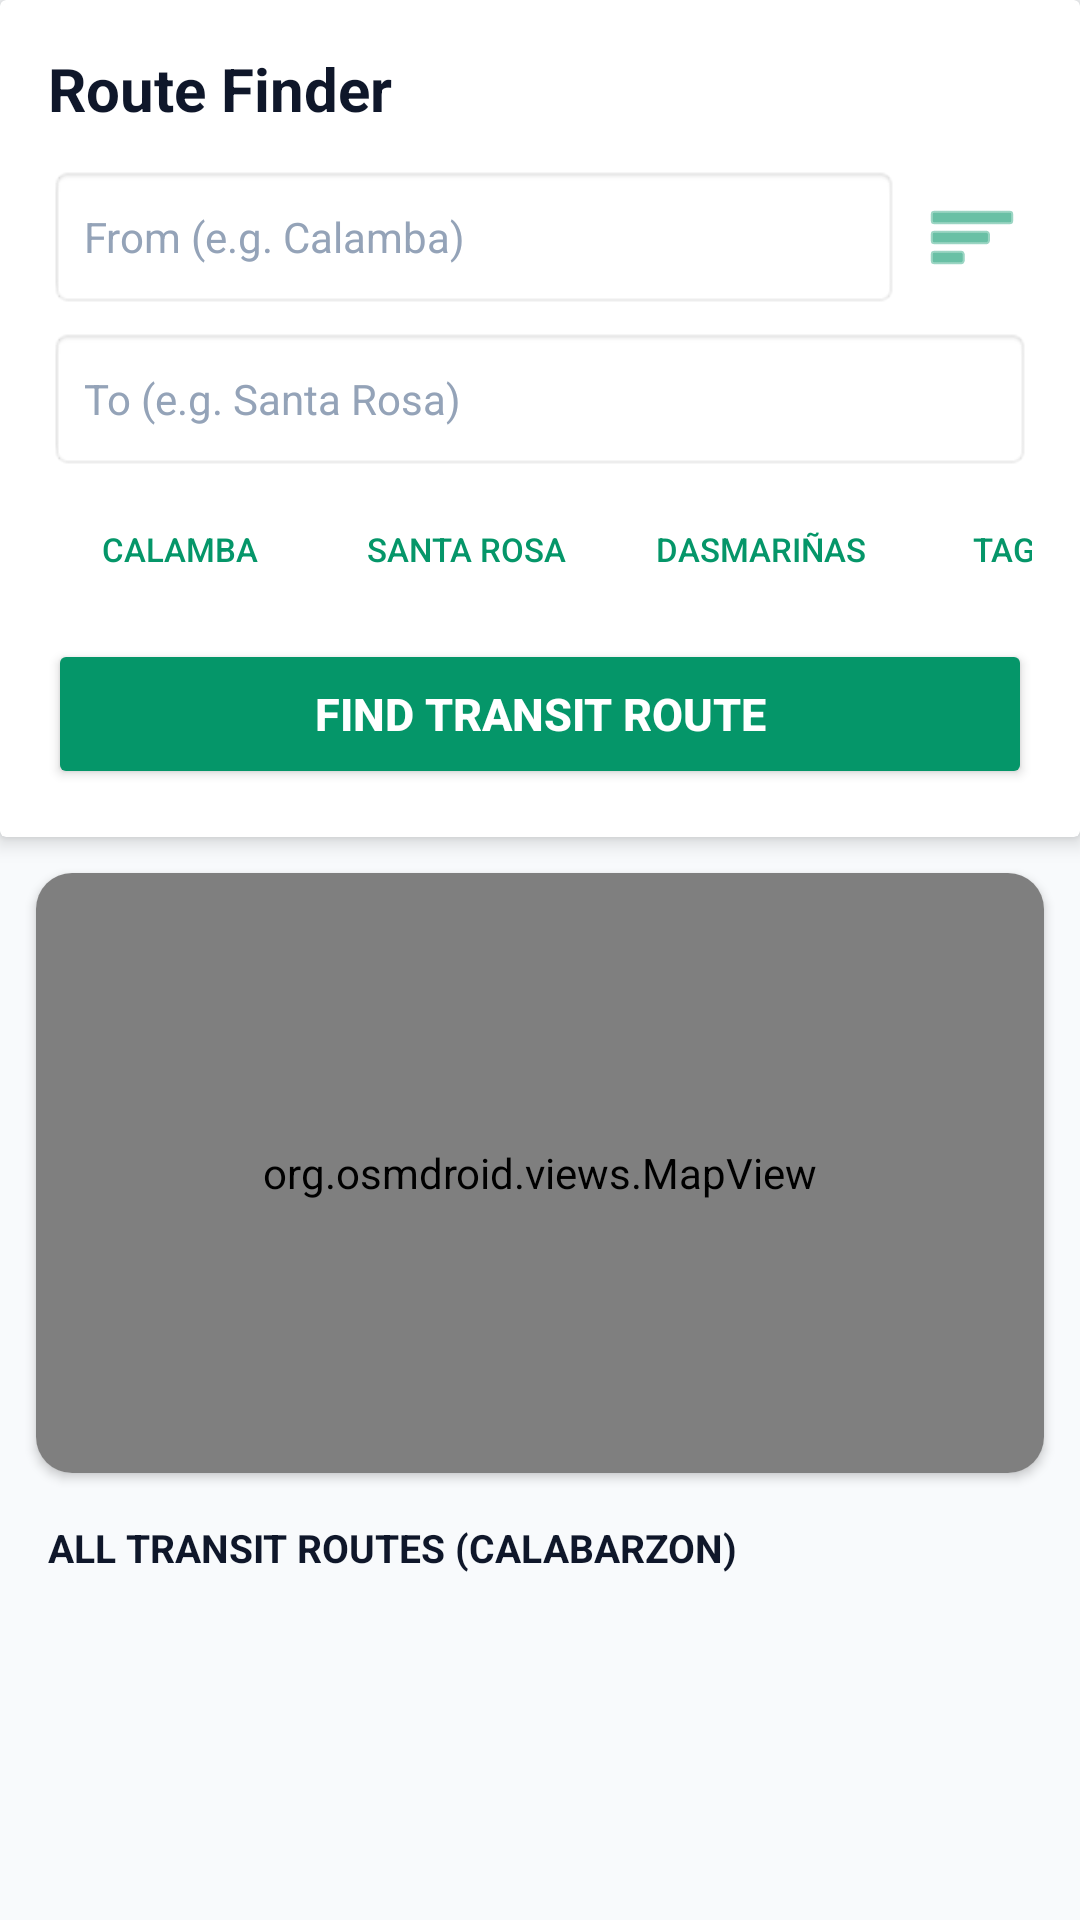

Icons on this 1080×1920 Android screen, each with the point to tap as point (x, y):
sort by size: point (972, 237)
